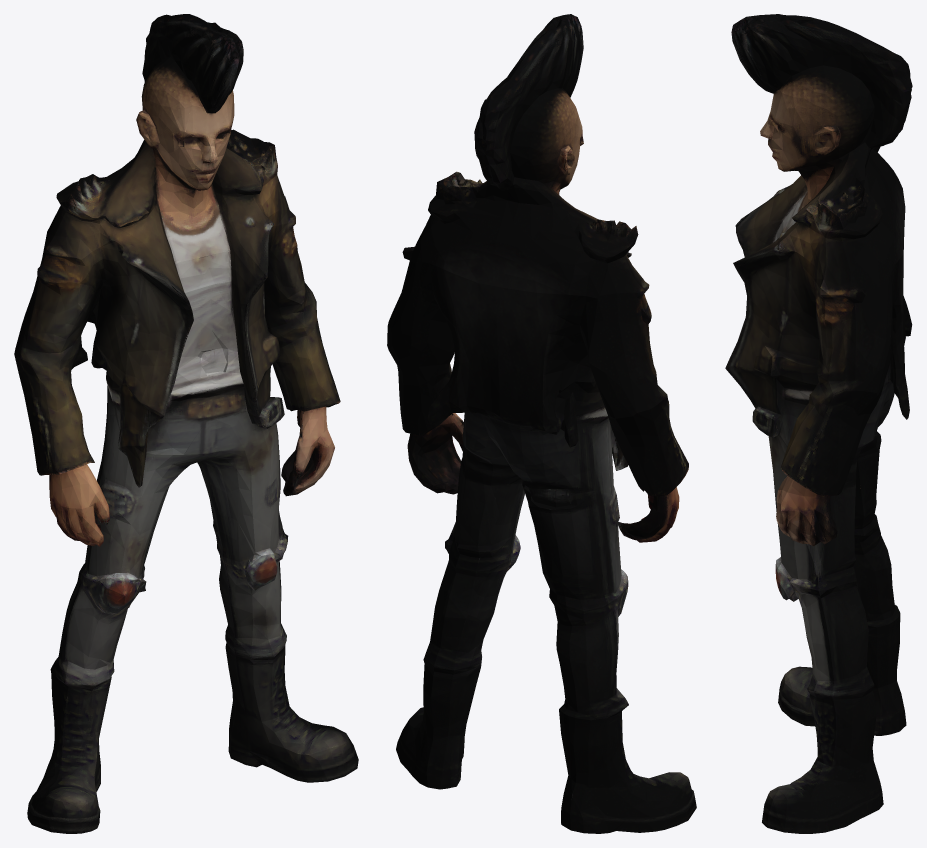
File: punk.glb
3 views of the same model, side by side, from view 1: azimuth 30°, elevation 25°; view 2: azimuth 150°, elevation 25°; view 3: azimuth 270°, elevation 25° (orthographic). The views are drawn at different scales.
Visible parts, largest first — view 1: world; view 2: world; view 3: world.
Boxes of the visible parts, x1,y1,x2,y2 form: world: (14, 14, 358, 833); world: (387, 14, 696, 833); world: (725, 14, 912, 833).
Bounding box in the file's own units: 0.414 × 0.9987 × 0.2239.
Materials: 1 (1 with a texture image).
